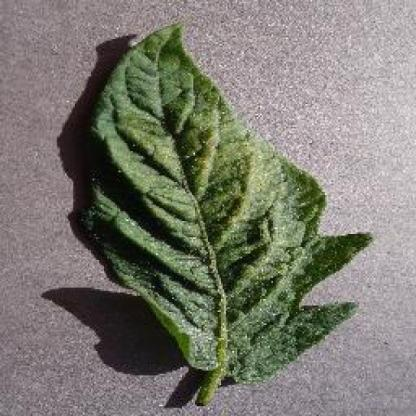Tomato_Spider_Mites: (79, 21, 368, 380)
